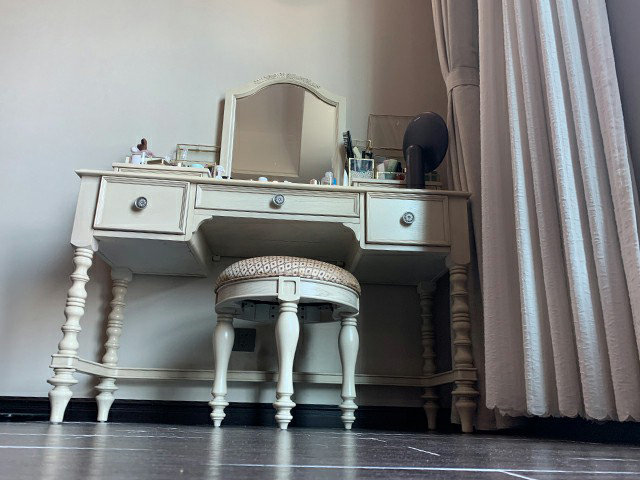curtain: (430, 1, 639, 429)
stool: (208, 255, 362, 431)
table: (45, 71, 479, 432)
